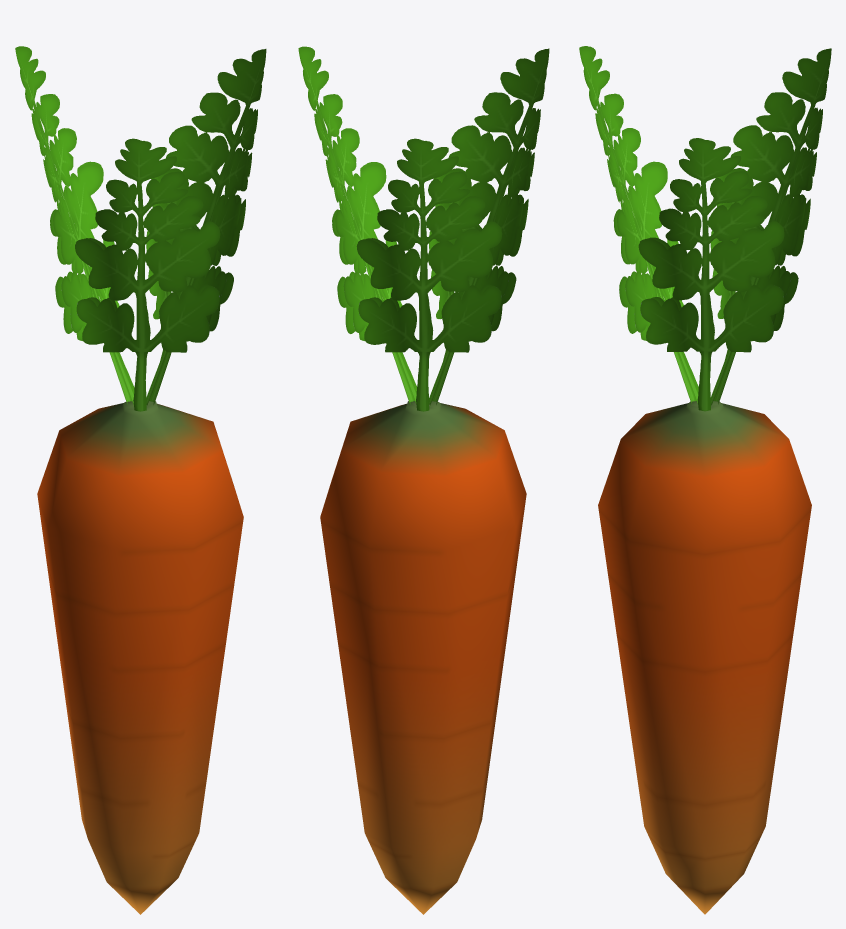
The model's file is 001-Carrot.FBX.
3 renders of one model, left to right at view 1: azimuth 30°, elevation 25°; view 2: azimuth 150°, elevation 25°; view 3: azimuth 270°, elevation 25°, orthographic.
Visible parts, largest first — view 1: 001-Carrot; view 2: 001-Carrot; view 3: 001-Carrot.
Part boxes in pixels (bbox=[...]): 001-Carrot: bbox=[15, 46, 266, 914]; 001-Carrot: bbox=[298, 46, 549, 914]; 001-Carrot: bbox=[579, 46, 831, 914].
Size of the model in its own units: 8.24 by 26.21 by 7.19.
